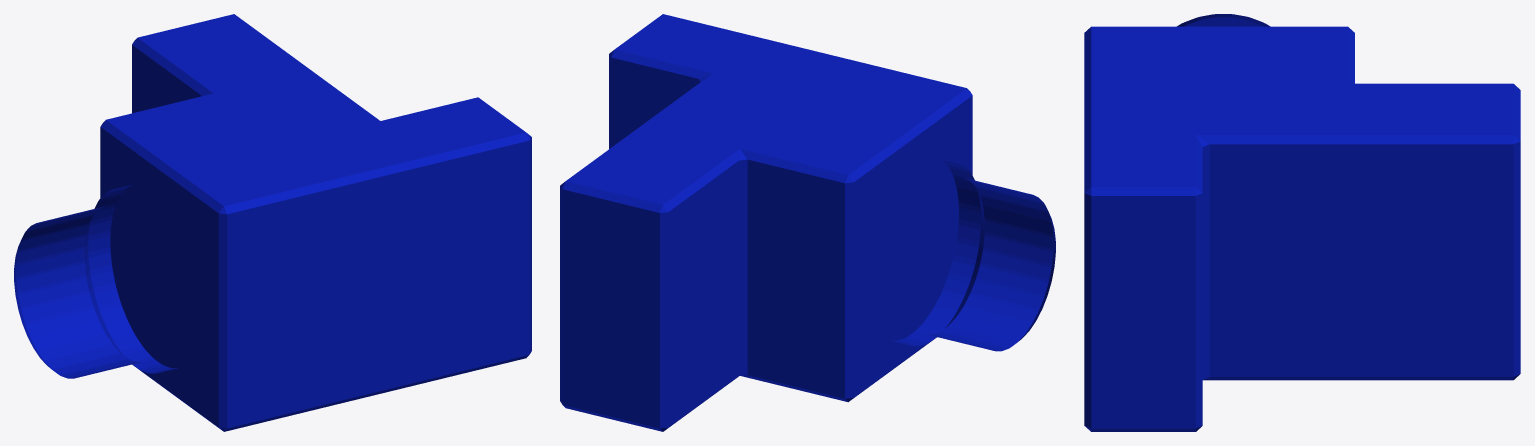
Rendered from assembly_sensor_part_blue.dae.
3 renders of one model, left to right at view 1: azimuth 30°, elevation 25°; view 2: azimuth 150°, elevation 25°; view 3: azimuth 270°, elevation 25°, orthographic. The views are drawn at different scales.
Parts seen in each view (by area): view 1: inputSensor; view 2: inputSensor; view 3: inputSensor.
Part boxes in pixels (left/top/right/bottom): inputSensor: left=14, top=14, right=531, bottom=431; inputSensor: left=560, top=14, right=1055, bottom=431; inputSensor: left=1084, top=14, right=1520, bottom=431.
Bounding box in the file's own units: 0.1313 × 0.1087 × 0.0674.
